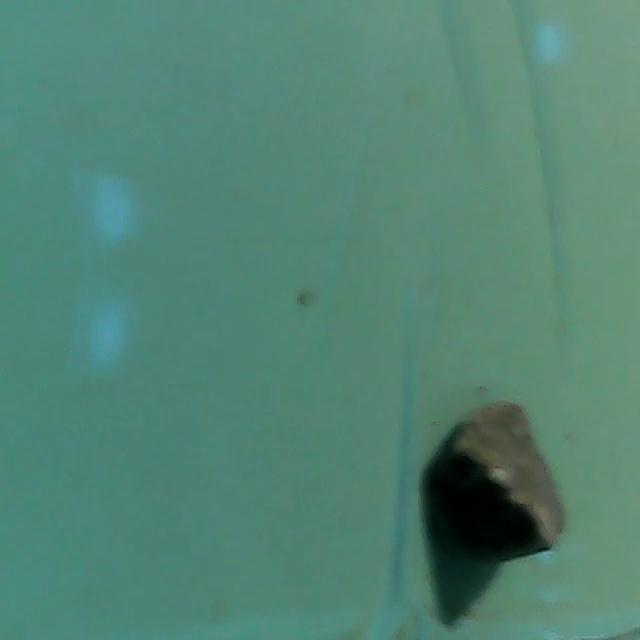rock: (416, 389, 576, 576)
